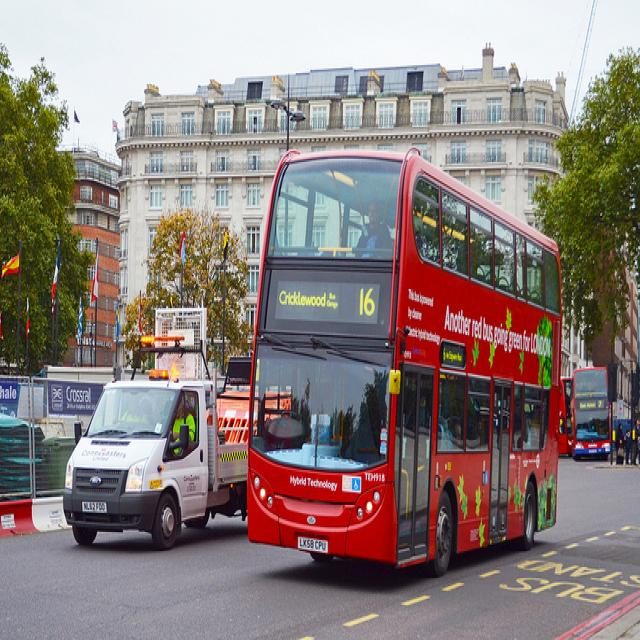Vehicle: (248, 147, 562, 584), (64, 334, 248, 551), (572, 367, 615, 458), (560, 377, 574, 455)
